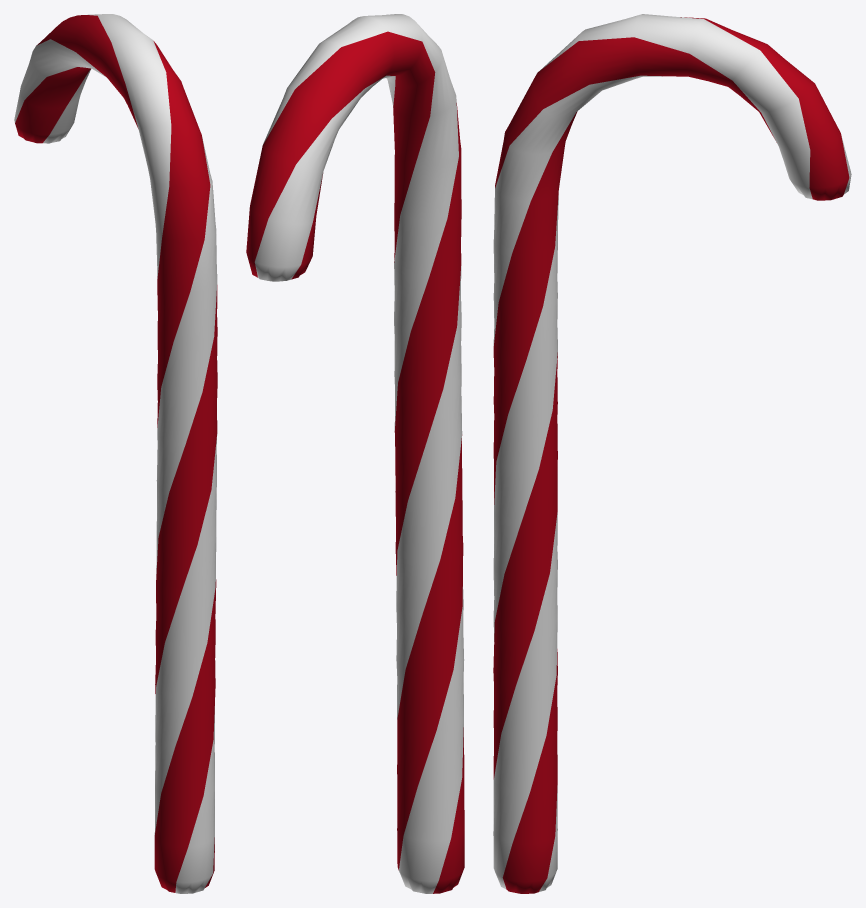
File: Candy Cane.fbx
The picture shows the model from 3 angles, left to right: view 1: azimuth 30°, elevation 25°; view 2: azimuth 150°, elevation 25°; view 3: azimuth 270°, elevation 25°; orthographic projection. The views are drawn at different scales.
Parts seen in each view (by area): view 1: Circle; view 2: Circle; view 3: Circle.
Boxes of the visible parts, x1,y1,x2,y2 form: Circle: [14, 14, 217, 893]; Circle: [246, 14, 464, 893]; Circle: [493, 14, 851, 893].
Bounding box in the file's own units: 169 × 2283 × 853.
